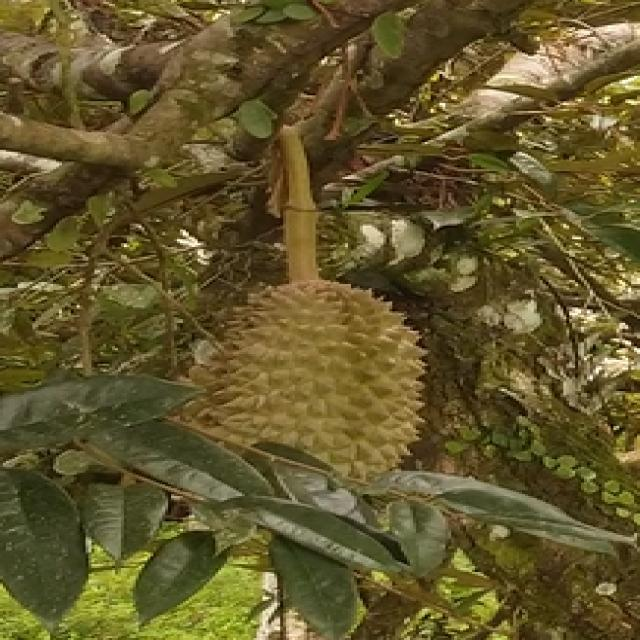mature: (171, 281, 426, 513)
